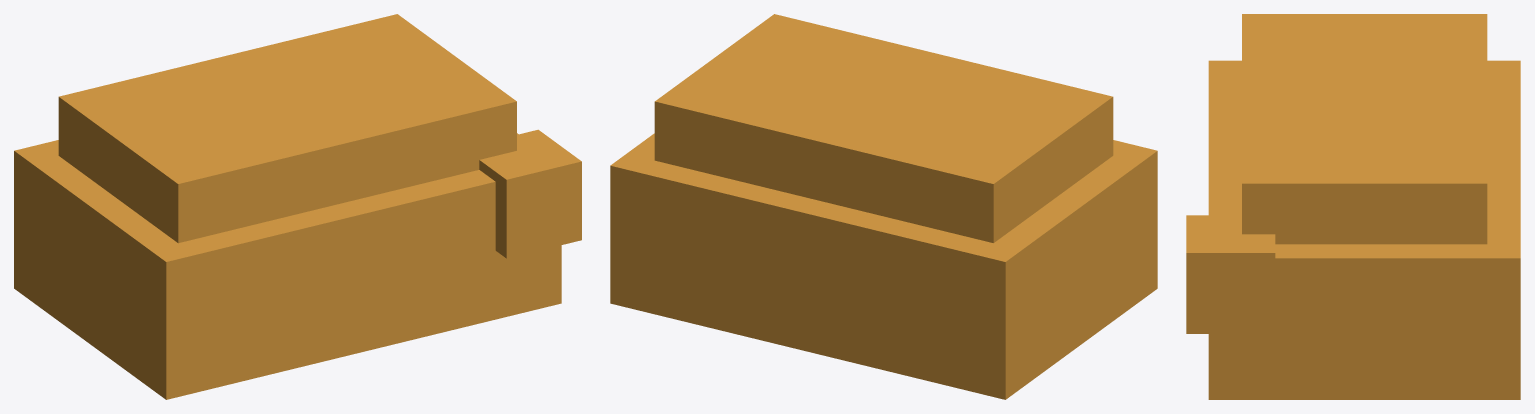
The model's file is product_fried_portion.glb.
The picture shows the model from 3 angles, left to right: view 1: azimuth 30°, elevation 25°; view 2: azimuth 150°, elevation 25°; view 3: azimuth 270°, elevation 25°; orthographic projection. The views are drawn at different scales.
Parts seen in each view (by area): view 1: product.fried_portion; view 2: product.fried_portion; view 3: product.fried_portion.
Boxes of the visible parts, x1,y1,x2,y2 form: product.fried_portion: [14, 14, 581, 399]; product.fried_portion: [610, 14, 1157, 399]; product.fried_portion: [1186, 14, 1520, 399].
Bounding box in the file's own units: 0.24 × 0.1116 × 0.1674.
